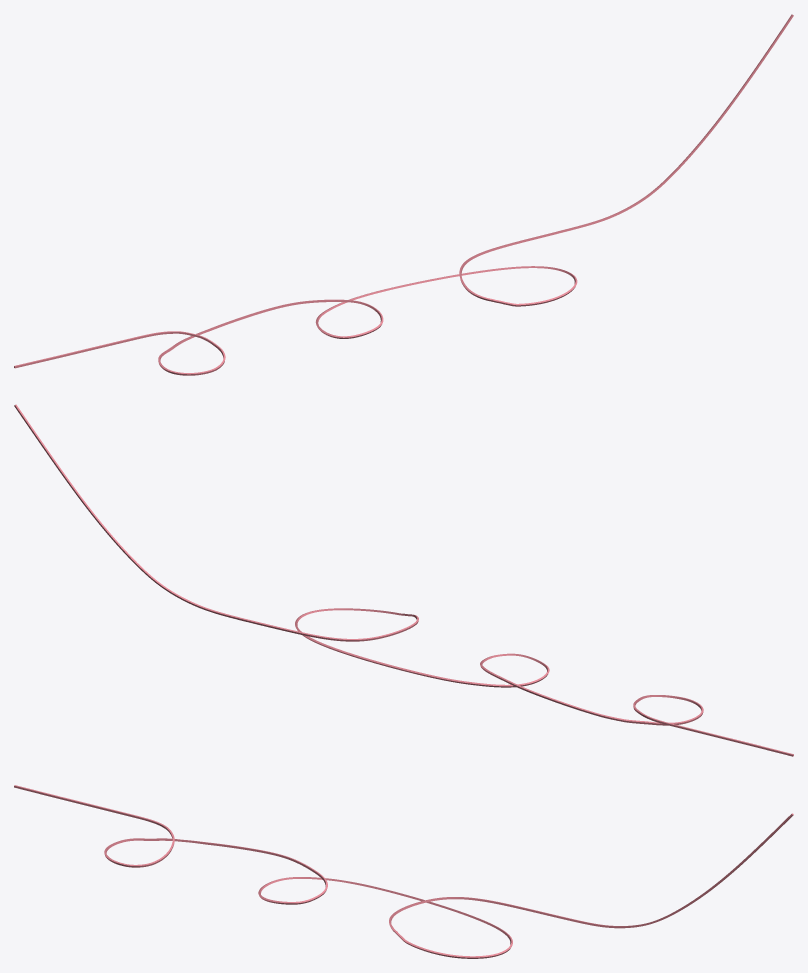
File: roller.fbx
3 views of the same model, one above another, from view 1: azimuth 30°, elevation 25°; view 2: azimuth 150°, elevation 25°; view 3: azimuth 330°, elevation 25° (orthographic).
Visible parts, largest first — view 1: Roller; view 2: Roller; view 3: Roller.
Boxes of the visible parts, x1,y1,x2,y2 form: Roller: (14, 14, 793, 375); Roller: (14, 404, 793, 756); Roller: (14, 785, 793, 958).
Bounding box in the file's own units: 10115 × 2184 × 1279.
